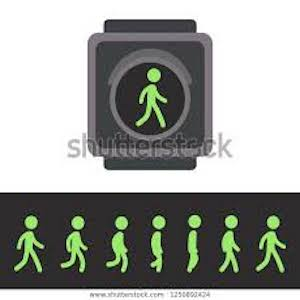green: (128, 64, 173, 132), (10, 207, 53, 274), (59, 209, 96, 278), (254, 213, 287, 280), (103, 211, 134, 274), (217, 214, 247, 278), (142, 212, 173, 272), (183, 210, 210, 276)
